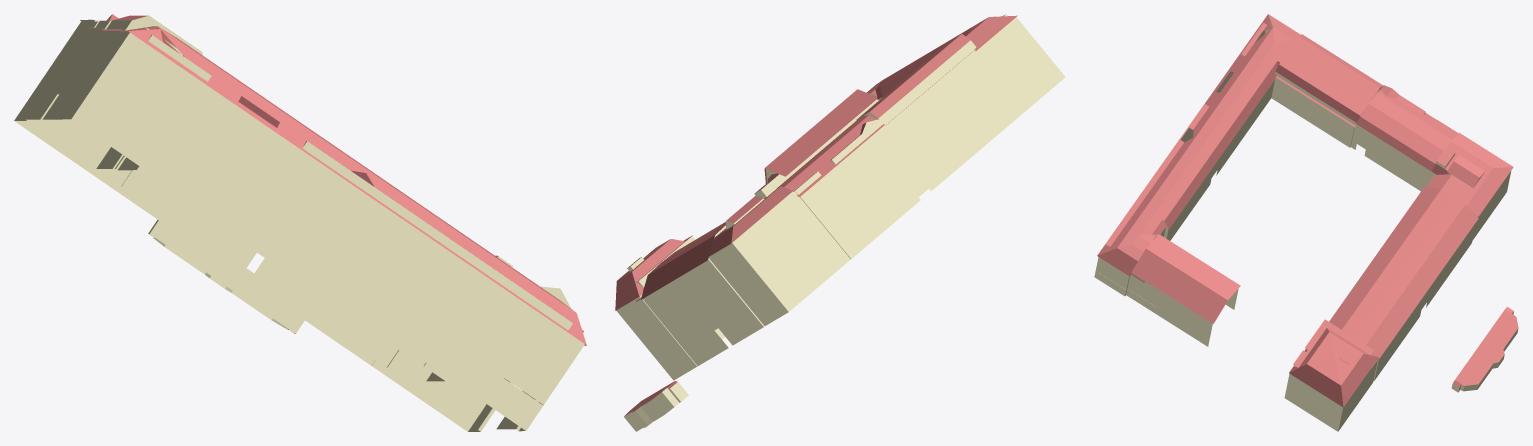
File: tile_070.glb
3 renders of one model, left to right at view 1: azimuth 30°, elevation 25°; view 2: azimuth 150°, elevation 25°; view 3: azimuth 270°, elevation 25°, orthographic. The views are drawn at different scales.
Visible parts, largest first — view 1: Batched_Building_ID_218545ED-667B-4052-A184-E6BB6BAAD0D2; view 2: Batched_Building_ID_218545ED-667B-4052-A184-E6BB6BAAD0D2; view 3: Batched_Building_ID_218545ED-667B-4052-A184-E6BB6BAAD0D2.
Part boxes in pixels (x1,y1,x2,y2): Batched_Building_ID_218545ED-667B-4052-A184-E6BB6BAAD0D2: [14, 14, 586, 431]; Batched_Building_ID_218545ED-667B-4052-A184-E6BB6BAAD0D2: [615, 14, 1065, 431]; Batched_Building_ID_218545ED-667B-4052-A184-E6BB6BAAD0D2: [1094, 14, 1518, 431].
Size of the model in its own units: 139 by 135 by 169.
